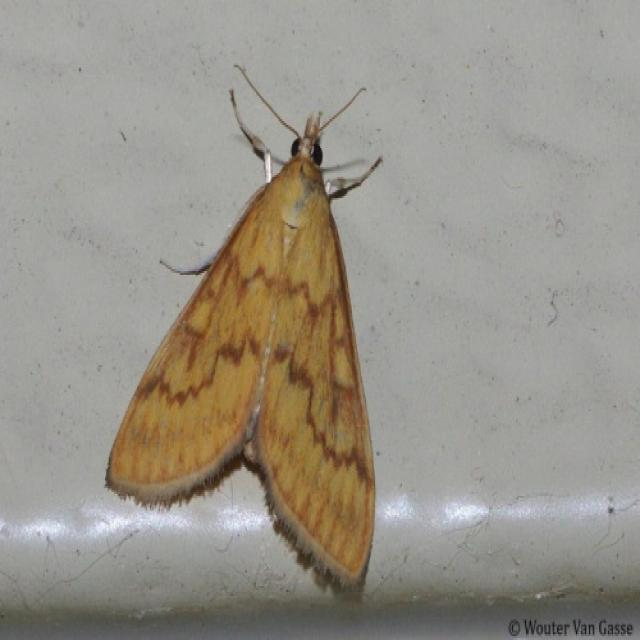cornborer-Adult-: (60, 46, 415, 600)
